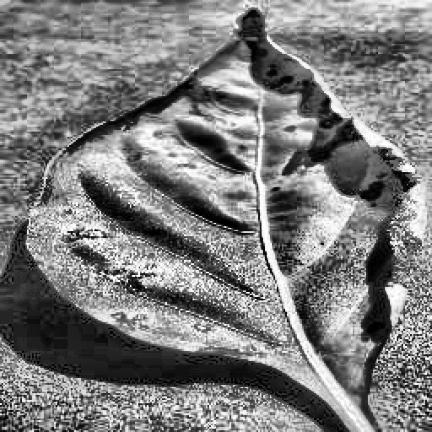leaf: (20, 10, 424, 430)
